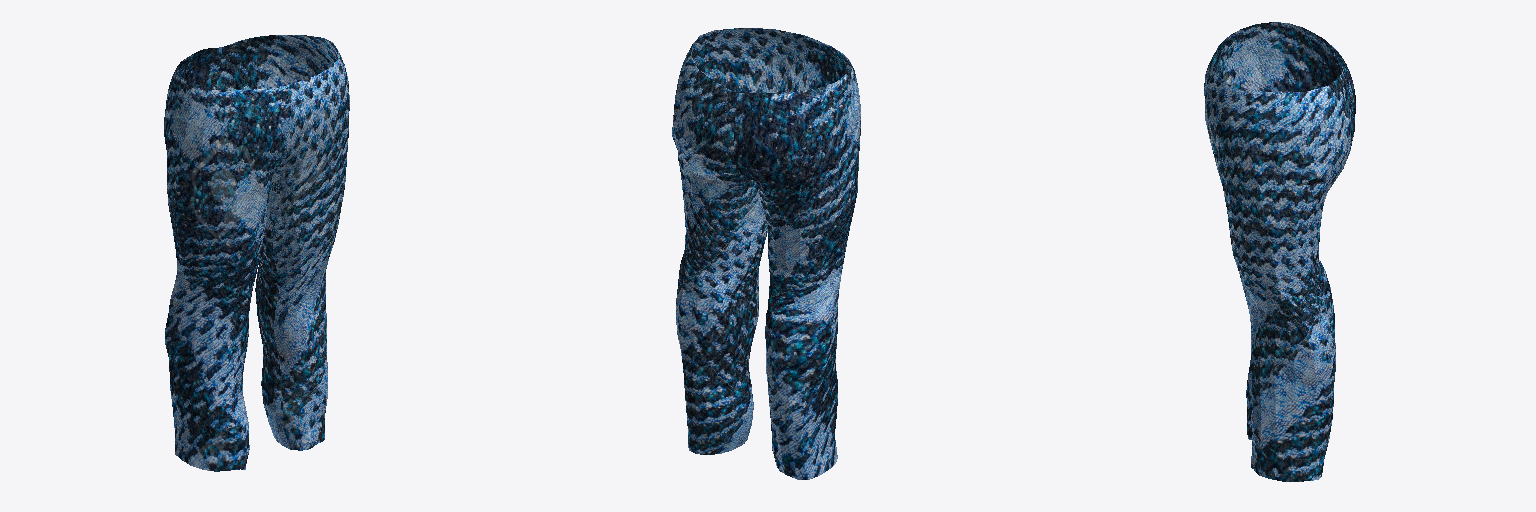
The picture shows the model from 3 angles: view 1: azimuth 30°, elevation 25°; view 2: azimuth 150°, elevation 25°; view 3: azimuth 270°, elevation 25°; orthographic projection.
Parts seen in each view (by area): view 1: obleka_01-male_casualsuit02; view 2: obleka_01-male_casualsuit02; view 3: obleka_01-male_casualsuit02.
Boxes of the visible parts, <box> form: obleka_01-male_casualsuit02: <box>164,35,349,471</box>; obleka_01-male_casualsuit02: <box>672,28,860,479</box>; obleka_01-male_casualsuit02: <box>1204,22,1355,481</box>.
Size of the model in its own units: 0.4023 by 0.9238 by 0.3183.
Materials: 1 (1 with a texture image).